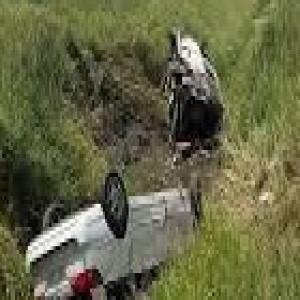fatal: (13, 165, 203, 300)
serious: (163, 17, 229, 160)
